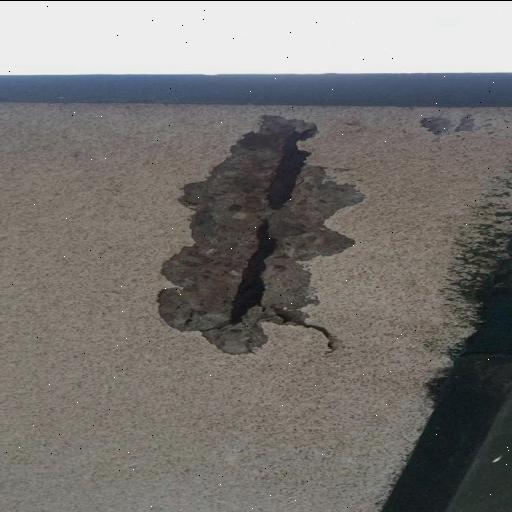spalling: (156, 119, 361, 359), (269, 310, 350, 366)
